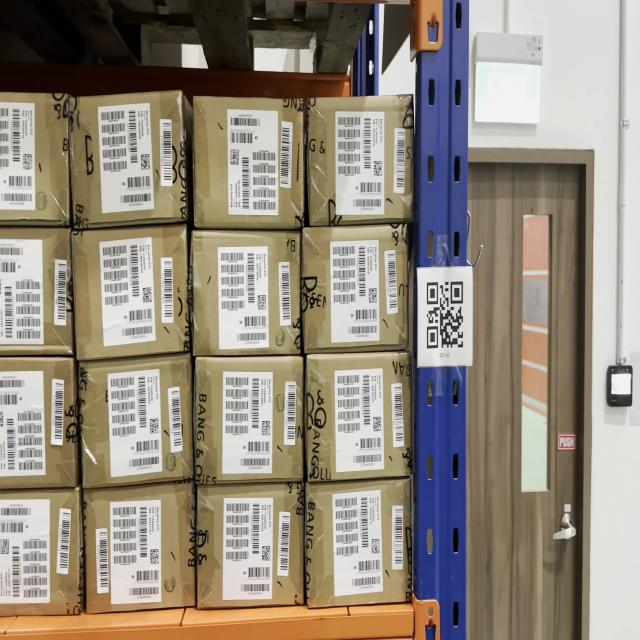box: (194, 93, 304, 233), (72, 98, 190, 228), (73, 227, 188, 356), (79, 361, 194, 486), (194, 356, 304, 483), (302, 225, 410, 354), (191, 231, 300, 356), (306, 480, 414, 606), (83, 487, 196, 606), (306, 354, 412, 479), (310, 98, 414, 221), (198, 486, 302, 607), (0, 492, 82, 613), (0, 354, 74, 486), (0, 225, 76, 353), (2, 90, 69, 222)
